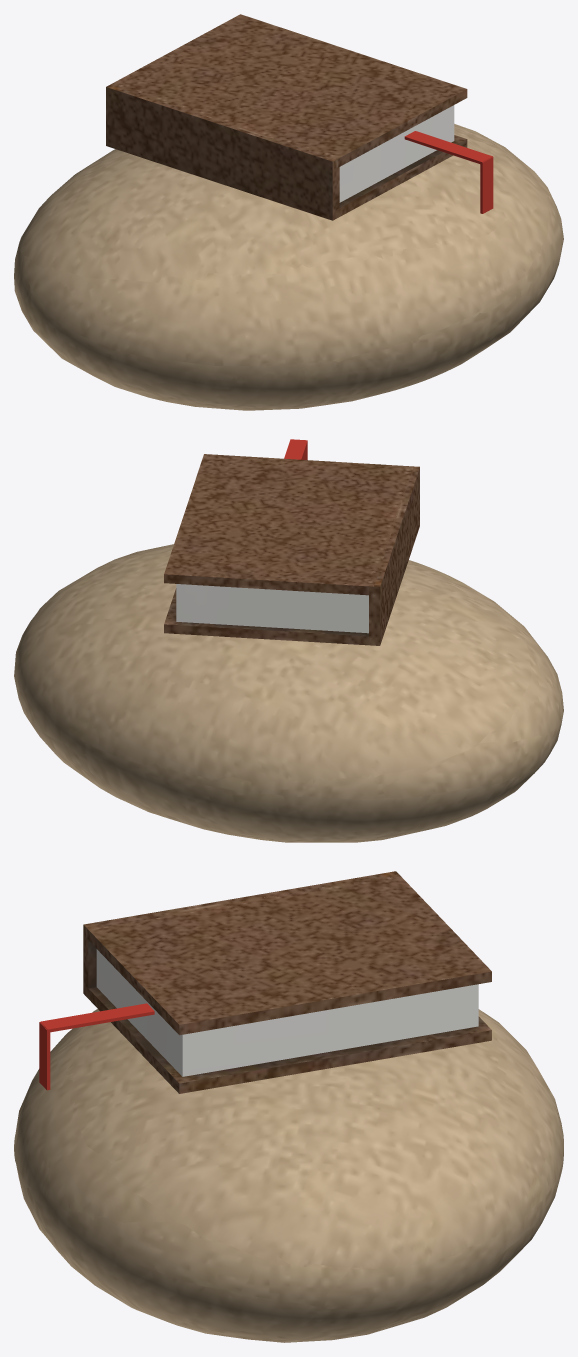
Rendered from book.glb.
3 views of the same model, one above another, from view 1: azimuth 30°, elevation 25°; view 2: azimuth 150°, elevation 25°; view 3: azimuth 270°, elevation 25° (orthographic). The views are drawn at different scales.
Parts seen in each view (by area): view 1: book; view 2: book; view 3: book.
Boxes of the visible parts, bbox=[...] form: book: bbox=[14, 14, 563, 410]; book: bbox=[14, 439, 563, 842]; book: bbox=[14, 871, 563, 1342].
Bounding box in the file's own units: 1.52 × 0.8237 × 1.24.
Materials: 4 (3 with a texture image).
